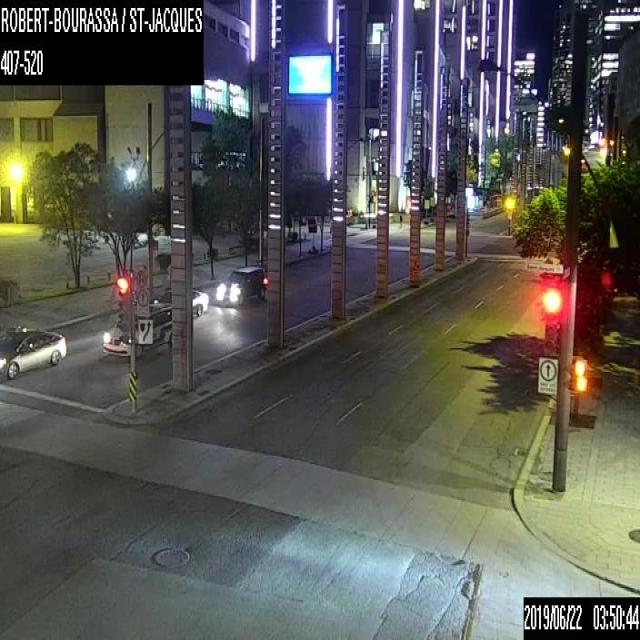construction: (408, 254, 421, 278)
vehicle: (102, 301, 171, 361), (0, 328, 66, 382), (214, 264, 266, 304), (148, 287, 208, 316)
